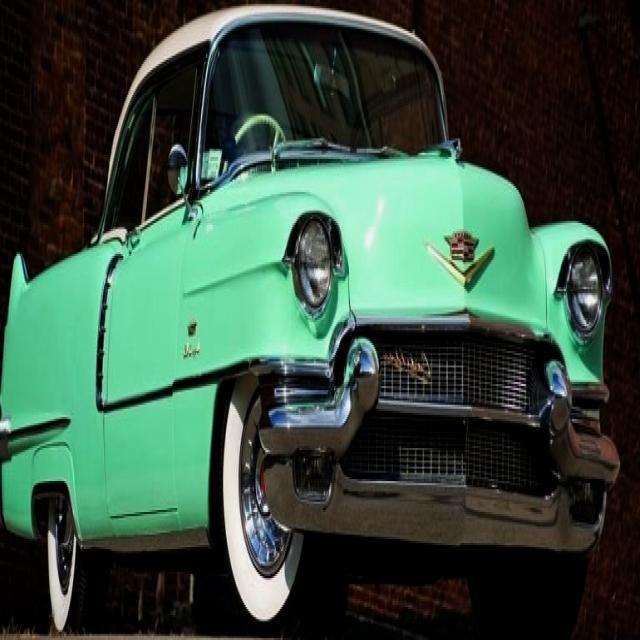green: (0, 3, 619, 640)
